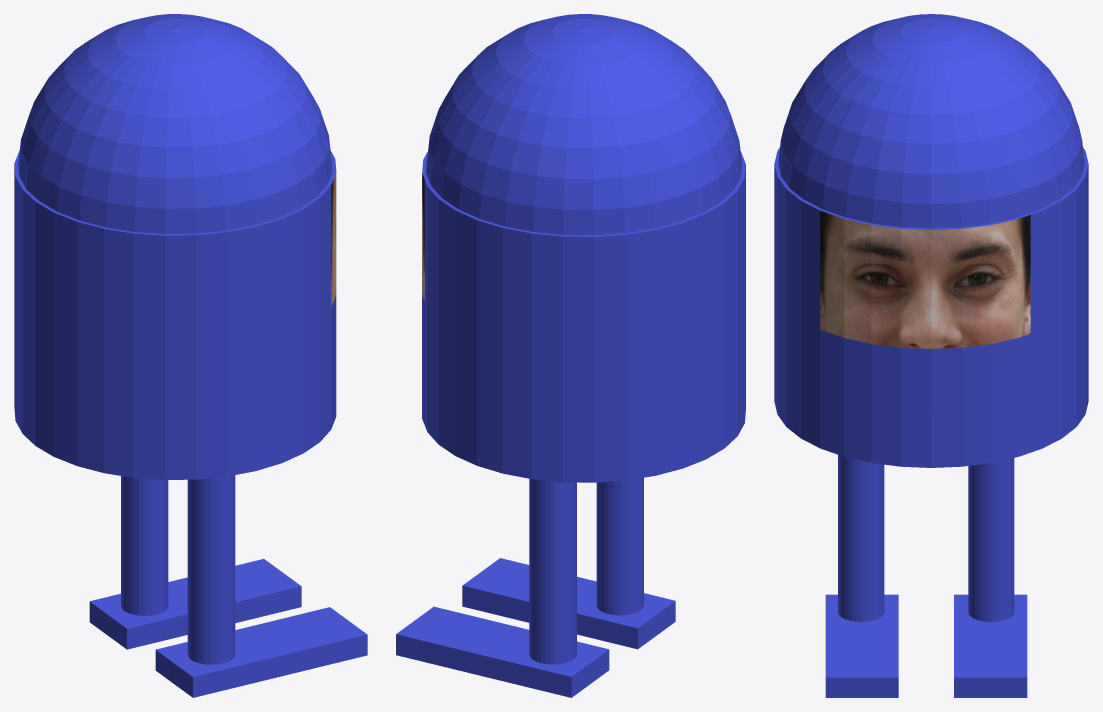
File: valorie.fbx
The picture shows the model from 3 angles, left to right: view 1: azimuth 30°, elevation 25°; view 2: azimuth 150°, elevation 25°; view 3: azimuth 270°, elevation 25°; orthographic projection. The views are drawn at different scales.
Parts seen in each view (by area): view 1: NPC-B; view 2: NPC-B; view 3: NPC-B.
Part boxes in pixels (x1,y1,x2,y2): NPC-B: [14, 14, 367, 697]; NPC-B: [396, 14, 745, 697]; NPC-B: [774, 14, 1088, 697].
Bounding box in the file's own units: 200 × 424 × 200.
Materials: 2 (1 with a texture image).
